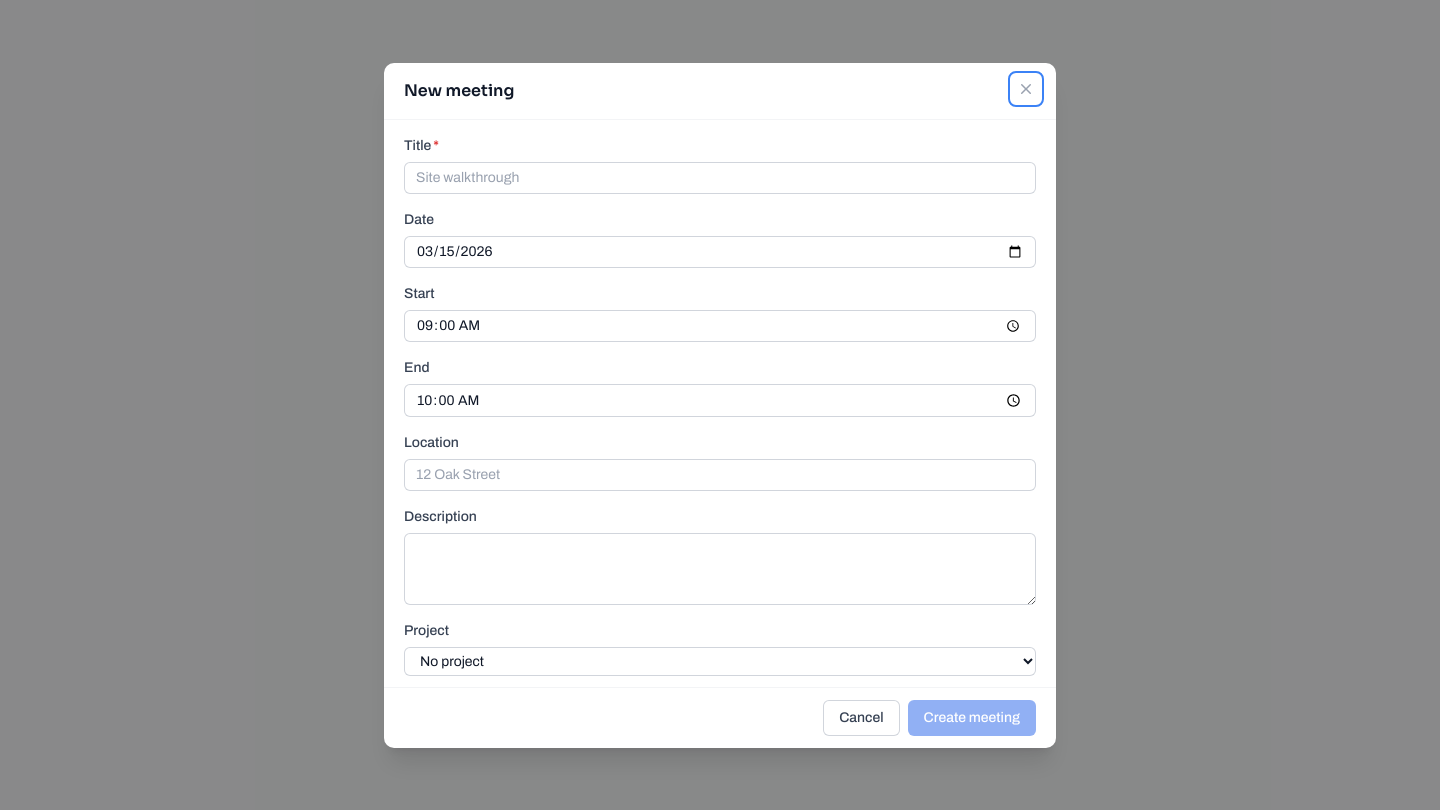
MeetingModal › creating › refuses an end before the start, and says why
Type "Backwards" into the field labelled "Title*" at (720, 178), box [404,162,1036,194]
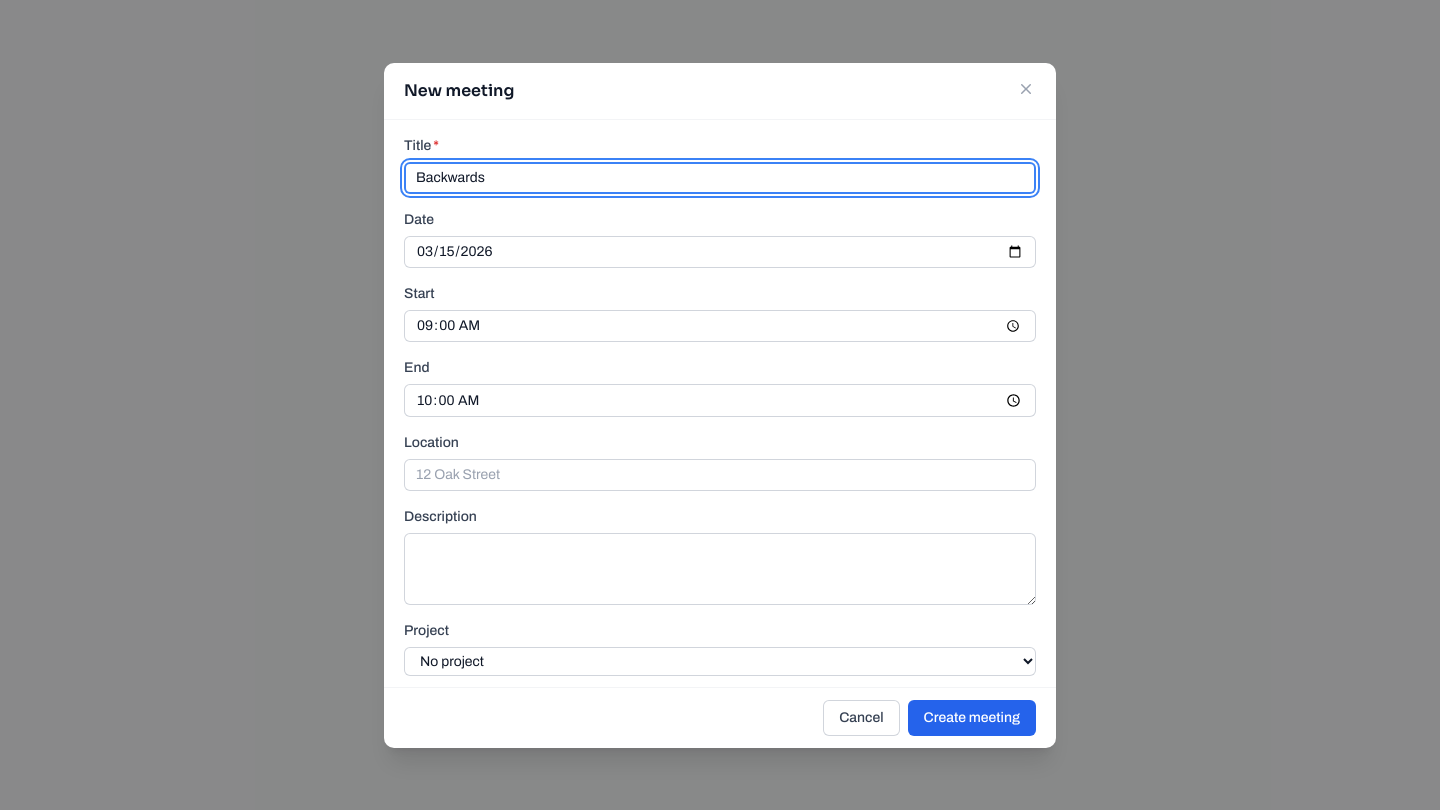
Replace the text in the time field labelled "End" with "08:00" at (720, 401), box [404,384,1036,417]
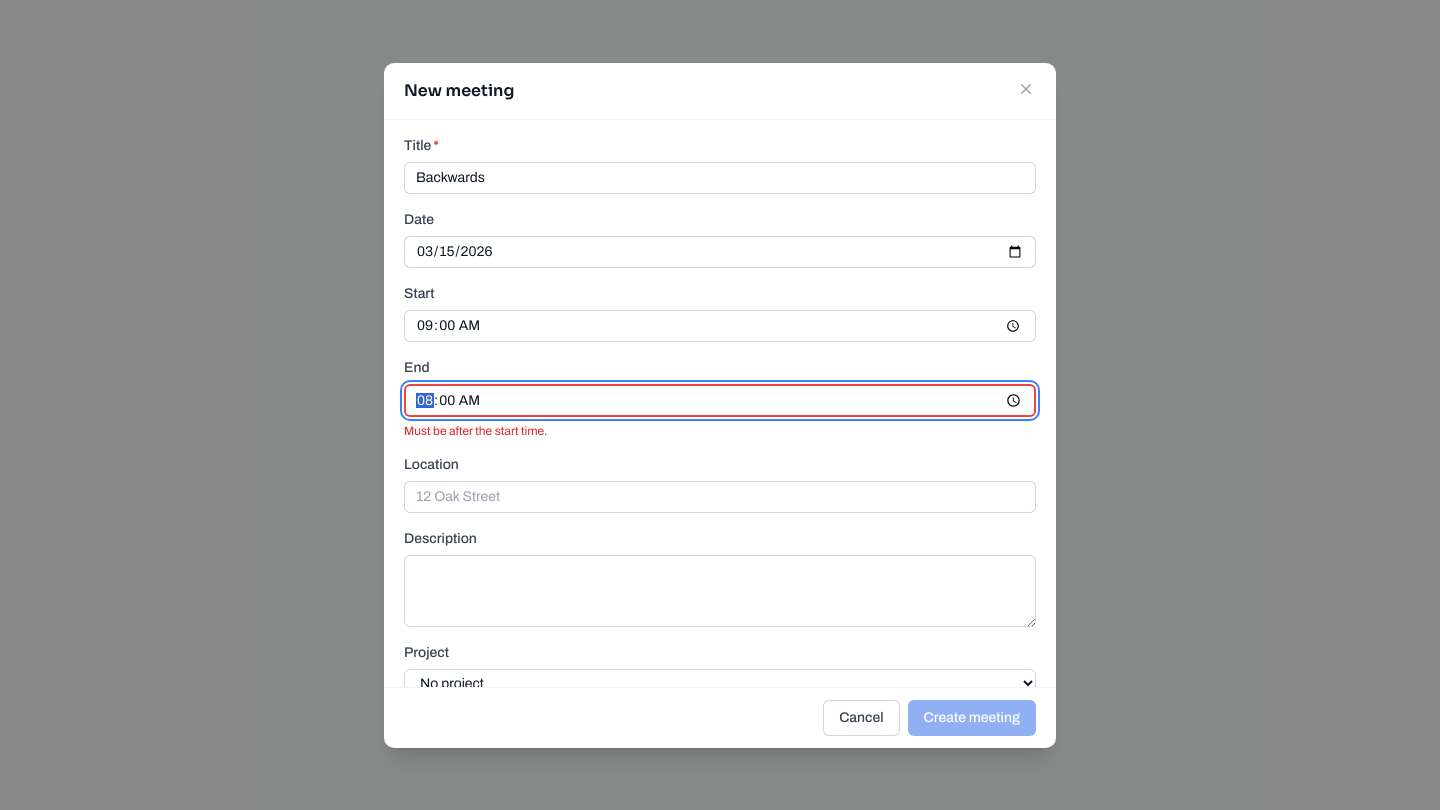
expect the button "Create meeting" is disabled: met, box [908,700,1036,736]
expect the text "Must be after the start time." is shown: met, box [404,424,548,438]
